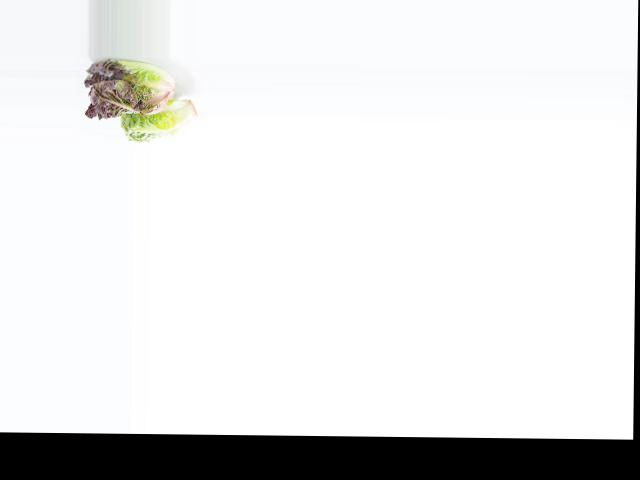lettuce: (118, 95, 200, 143)
